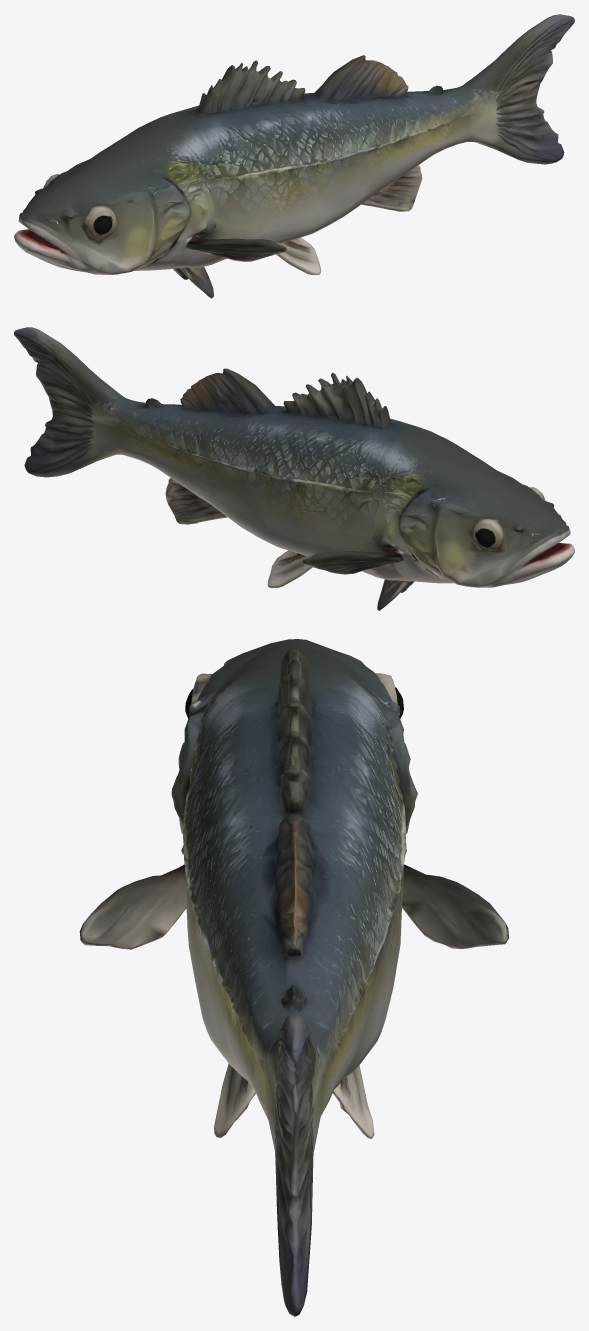
The model's file is fish-sibas.glb.
The picture shows the model from 3 angles, top to bottom: view 1: azimuth 30°, elevation 25°; view 2: azimuth 150°, elevation 25°; view 3: azimuth 270°, elevation 25°; orthographic projection. The views are drawn at different scales.
Parts seen in each view (by area): view 1: tripo_node_9ae4d227-9f3f-403c-8e49-76adc7436583; view 2: tripo_node_9ae4d227-9f3f-403c-8e49-76adc7436583; view 3: tripo_node_9ae4d227-9f3f-403c-8e49-76adc7436583.
Boxes of the visible parts, x1,y1,x2,y2 form: tripo_node_9ae4d227-9f3f-403c-8e49-76adc7436583: (14,14,574,298); tripo_node_9ae4d227-9f3f-403c-8e49-76adc7436583: (14,327,574,610); tripo_node_9ae4d227-9f3f-403c-8e49-76adc7436583: (79,639,509,1316).
Size of the model in its own units: 1 by 0.3708 by 0.3337.
1 material, 1 textured.
